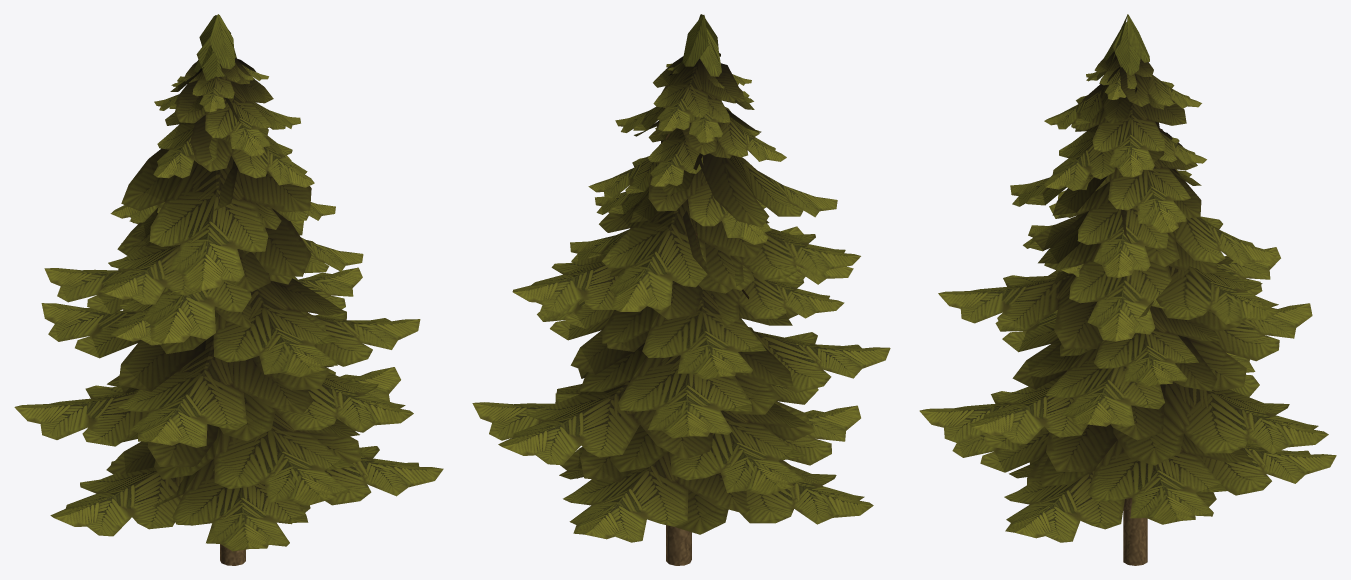
The model's file is Tree1.glb.
3 renders of one model, left to right at view 1: azimuth 30°, elevation 25°; view 2: azimuth 150°, elevation 25°; view 3: azimuth 270°, elevation 25°, orthographic. The views are drawn at different scales.
Parts seen in each view (by area): view 1: Leaves/001; view 2: Leaves/001; view 3: Leaves/001.
Boxes of the visible parts, left/top/right/bottom form: Leaves/001: left=14, top=14, right=443, bottom=565; Leaves/001: left=472, top=14, right=890, bottom=565; Leaves/001: left=919, top=14, right=1336, bottom=565.
Size of the model in its own units: 2.17 by 3.08 by 2.17.
2 materials, 2 textured.
